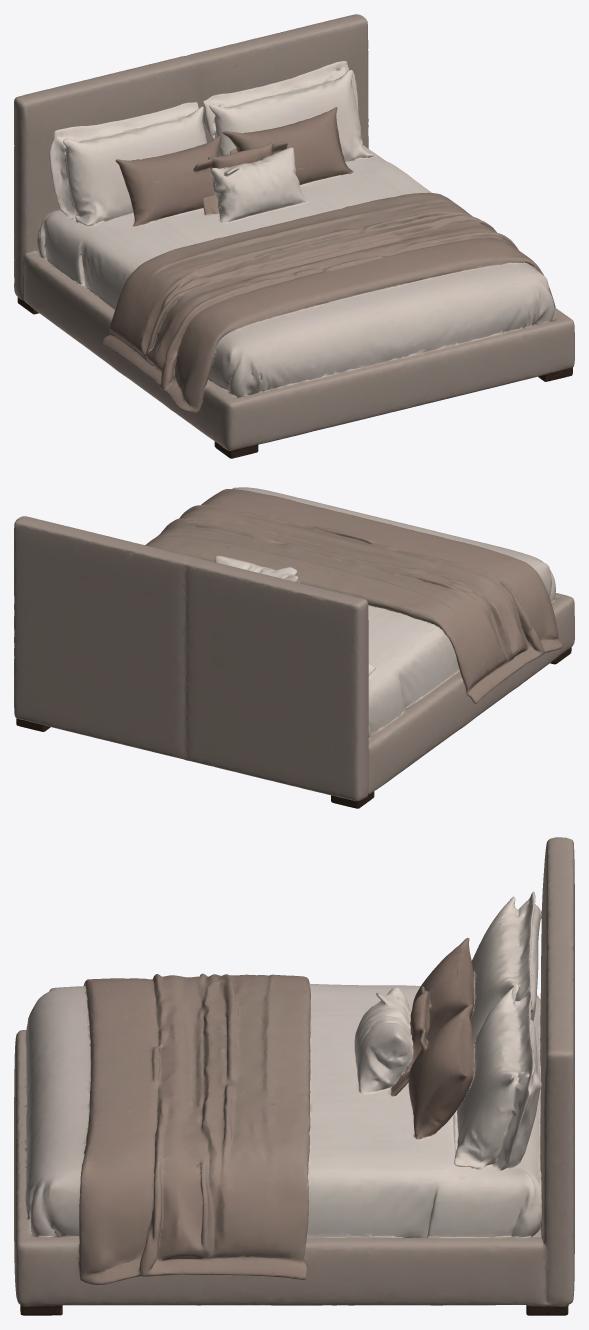
3 renders of one model, top to bottom at view 1: azimuth 30°, elevation 25°; view 2: azimuth 150°, elevation 25°; view 3: azimuth 270°, elevation 25°, orthographic. The views are drawn at different scales.
Visible parts, largest first — view 1: world; view 2: world; view 3: world.
Boxes of the visible parts, x1,y1,x2,y2 form: world: (14,14,574,458); world: (14,487,574,808); world: (14,837,574,1315).
Bounding box in the file's own units: 1 × 0.5185 × 0.9956.
1 material, 1 textured.
